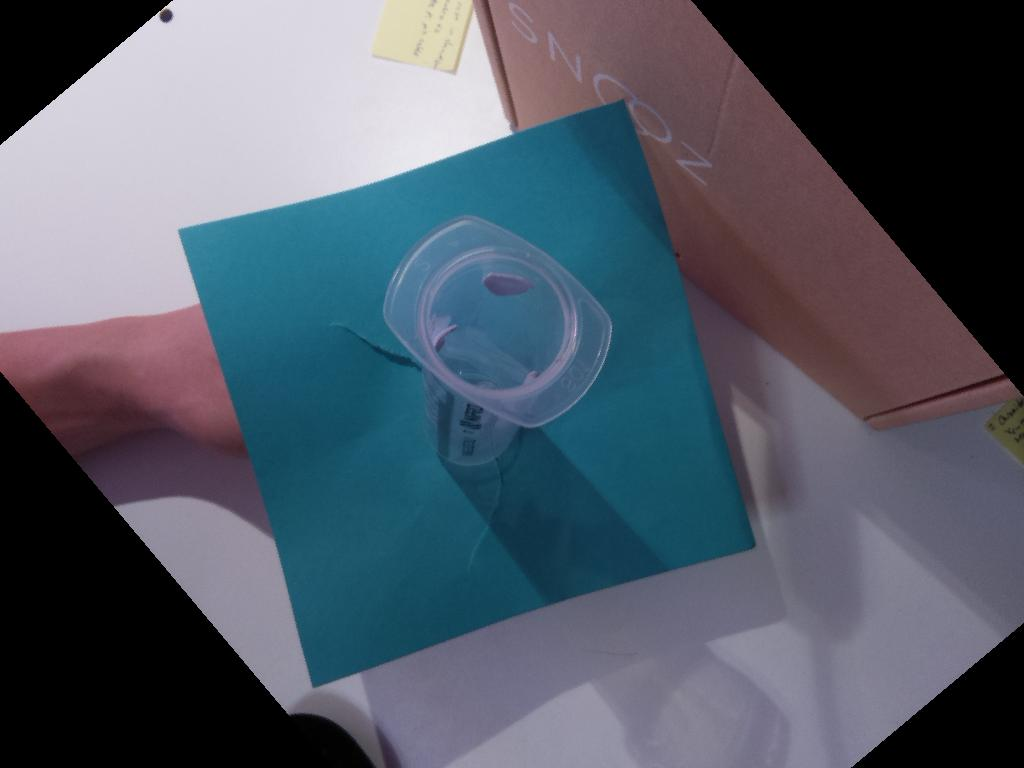dirty: (380, 215, 613, 427)
